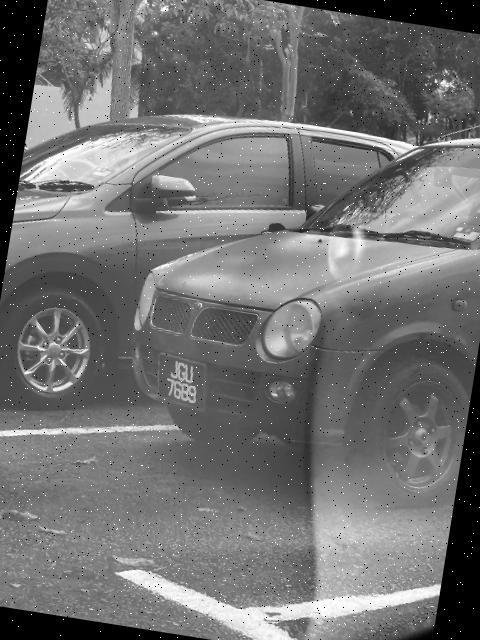JGU7689: (152, 351, 218, 417)
License_Plate: (152, 351, 218, 417)
car: (1, 80, 441, 451), (114, 86, 480, 512)
